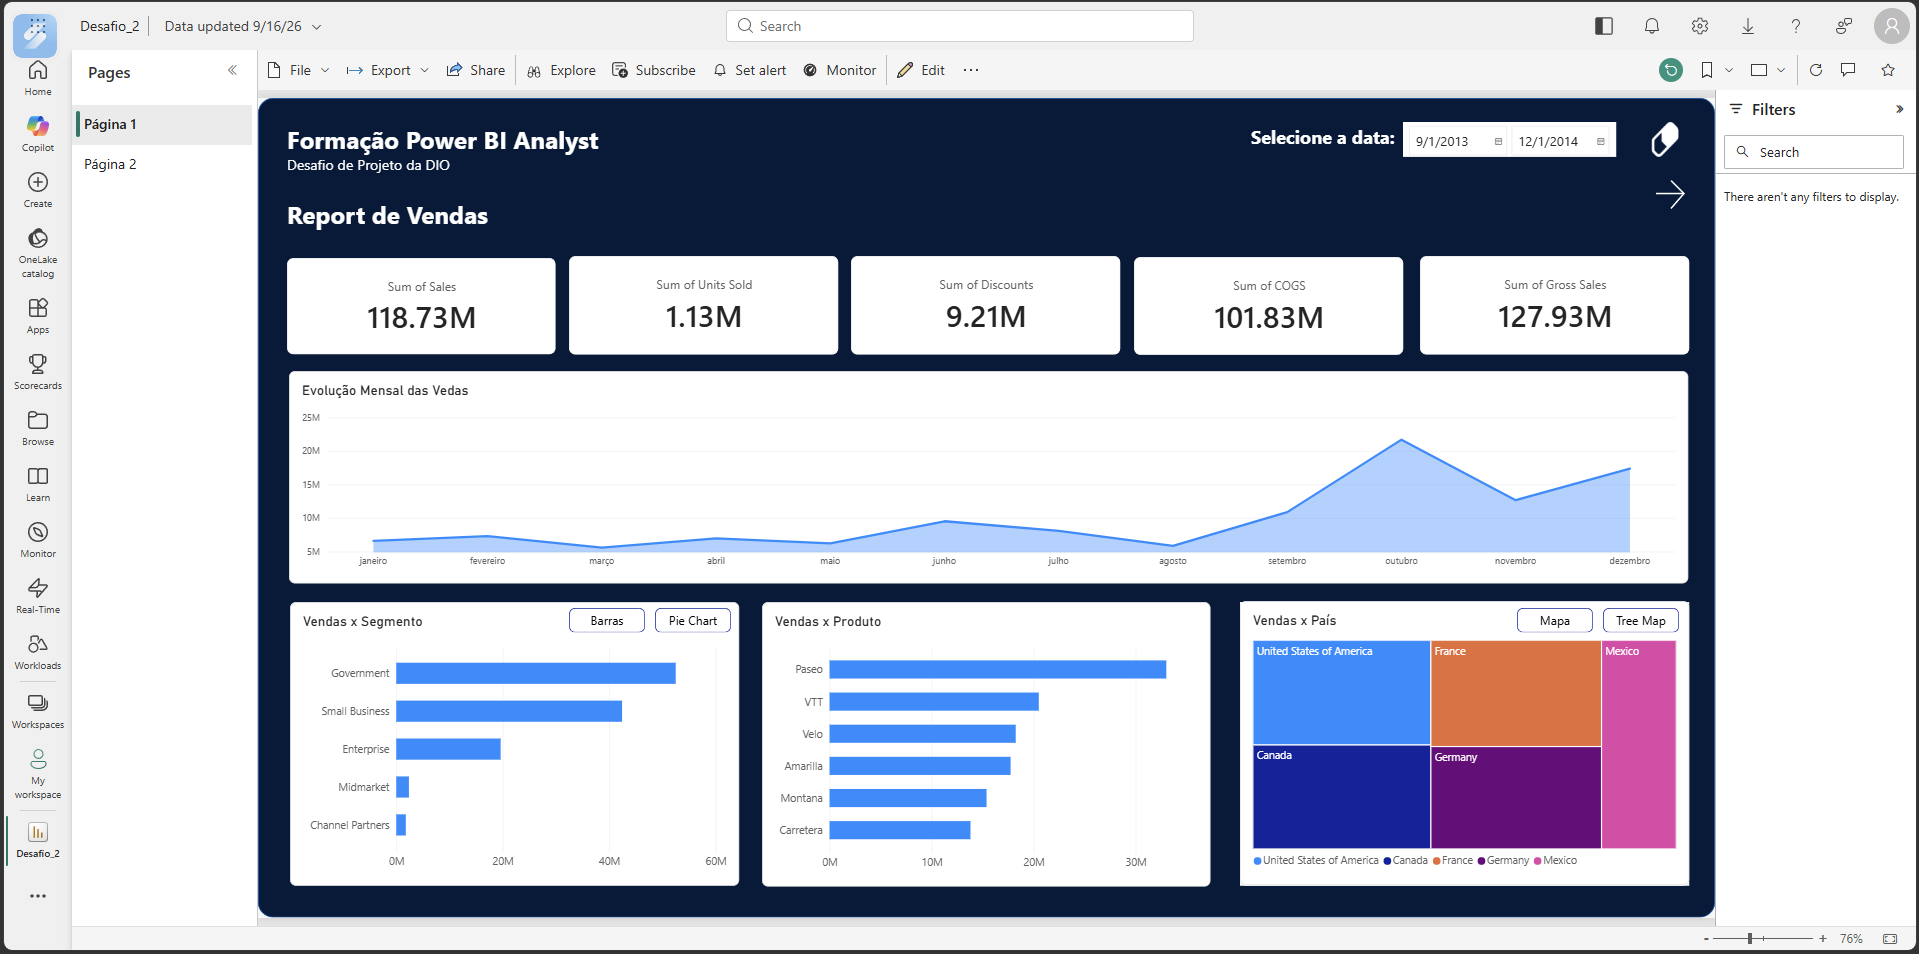

The page's visual inventory and layout, read from the dashboard file:
{"tool":"powerbi","page":{"name":"Página 1","canvas":[1920,1080],"ordinal":0},"visuals":[{"type":"shape","box":[0,0,1920,1080],"z":0},{"type":"textbox","box":[38.3,31.7,610,84.3],"z":1000},{"type":"textbox","box":[38.3,130,273.3,55],"z":2000},{"type":"areaChart","title":"Evolução Mensal das Vedas","fields":{"Category":["financials.Date.Variation.Hierarquia de datas.Mês"],"Y":["Sum(financials. Sales)"]},"box":[41.4,360,1844.3,280],"z":3000},{"type":"cardVisual","fields":{"Data":["Sum(financials. Sales)"]},"box":[38.6,211.4,354.3,127.1],"z":4000},{"type":"cardVisual","fields":{"Data":["Sum(financials.Units Sold)"]},"box":[410,208.2,355.5,130.9],"z":5000},{"type":"cardVisual","fields":{"Data":["Sum(financials.Discounts)"]},"box":[781.8,208.2,355.5,130.9],"z":6000},{"type":"cardVisual","fields":{"Data":["Sum(financials.COGS)"]},"box":[1154.5,210,355.5,129.1],"z":7000},{"type":"cardVisual","fields":{"Data":["Sum(financials.Gross Sales)"]},"box":[1531.8,208.2,355.5,130.9],"z":8000},{"type":"clusteredBarChart","title":"Vendas x Segmento","fields":{"Category":["financials.Segment"],"Y":["Sum(financials. Sales)"]},"box":[42.6,663.7,591.9,373.7],"z":10000},{"type":"actionButton","title":"Botão - Barras","box":[409.6,671.9,100.2,32.4],"z":11000},{"type":"actionButton","title":"Botão - Pie Chart","box":[523.1,671.9,100.2,32.4],"z":12000},{"type":"clusteredBarChart","title":"Vendas x Produto","fields":{"Category":["financials.Product"],"Y":["Sum(financials. Sales)"]},"box":[663.7,663.7,590.5,375.1],"z":13000},{"type":"treemap","fields":{"Group":["financials.Country"],"Values":["Sum(financials. Sales)"]},"box":[1294.3,688.6,591.4,348.6],"z":14000},{"type":"image","box":[1802.9,31.4,102.9,45.7],"z":15000},{"type":"slicer","fields":{"Values":["financials.Date"]},"box":[1508.6,31.4,281.4,45.7],"z":16000},{"type":"textbox","box":[1308.6,34.3,200,42.9],"z":17000},{"type":"actionButton","title":"Botão - Prox Página","box":[1835.7,95.7,50,61.4],"z":18000},{"type":"map","title":"Vendas x País","fields":{"Category":["financials.Country"],"Size":["Sum(financials. Sales)"]},"box":[1294.1,663.7,591.9,373.7],"z":19000},{"type":"treemap","title":"Vendas x País","fields":{"Group":["financials.Country"],"Values":["Sum(financials. Sales)"]},"box":[1293.8,663.1,591.9,373.7],"z":19500},{"type":"actionButton","title":"Botão - Treemap","box":[1772.6,671.9,100.2,32.4],"z":20000},{"type":"actionButton","title":"Botão - Mapa","box":[1659.2,671.9,100.2,32.4],"z":21000}]}

Visuals, with their boxes on the page's 1920x1080 design canvas (x1, y1, x2, y2). These are canvas units, not pixel positions in the 1919x954 screenshot, which may show the page scaled, cropped or inside an application window:
shape: <box>0,0,1920,1080</box>
textbox: <box>38,32,648,116</box>
textbox: <box>38,130,312,185</box>
"Evolução Mensal das Vedas" areaChart: <box>41,360,1886,640</box>
cardVisual - Sum(financials. Sales): <box>39,211,393,338</box>
cardVisual - Sum(financials.Units Sold): <box>410,208,766,339</box>
cardVisual - Sum(financials.Discounts): <box>782,208,1137,339</box>
cardVisual - Sum(financials.COGS): <box>1154,210,1510,339</box>
cardVisual - Sum(financials.Gross Sales): <box>1532,208,1887,339</box>
"Vendas x Segmento" clusteredBarChart: <box>43,664,634,1037</box>
"Botão - Barras" actionButton: <box>410,672,510,704</box>
"Botão - Pie Chart" actionButton: <box>523,672,623,704</box>
"Vendas x Produto" clusteredBarChart: <box>664,664,1254,1039</box>
treemap - financials.Country x Sum(financials. Sales): <box>1294,689,1886,1037</box>
image: <box>1803,31,1906,77</box>
slicer - financials.Date: <box>1509,31,1790,77</box>
textbox: <box>1309,34,1509,77</box>
"Botão - Prox Página" actionButton: <box>1836,96,1886,157</box>
"Vendas x País" map: <box>1294,664,1886,1037</box>
"Vendas x País" treemap: <box>1294,663,1886,1037</box>
"Botão - Treemap" actionButton: <box>1773,672,1873,704</box>
"Botão - Mapa" actionButton: <box>1659,672,1759,704</box>
